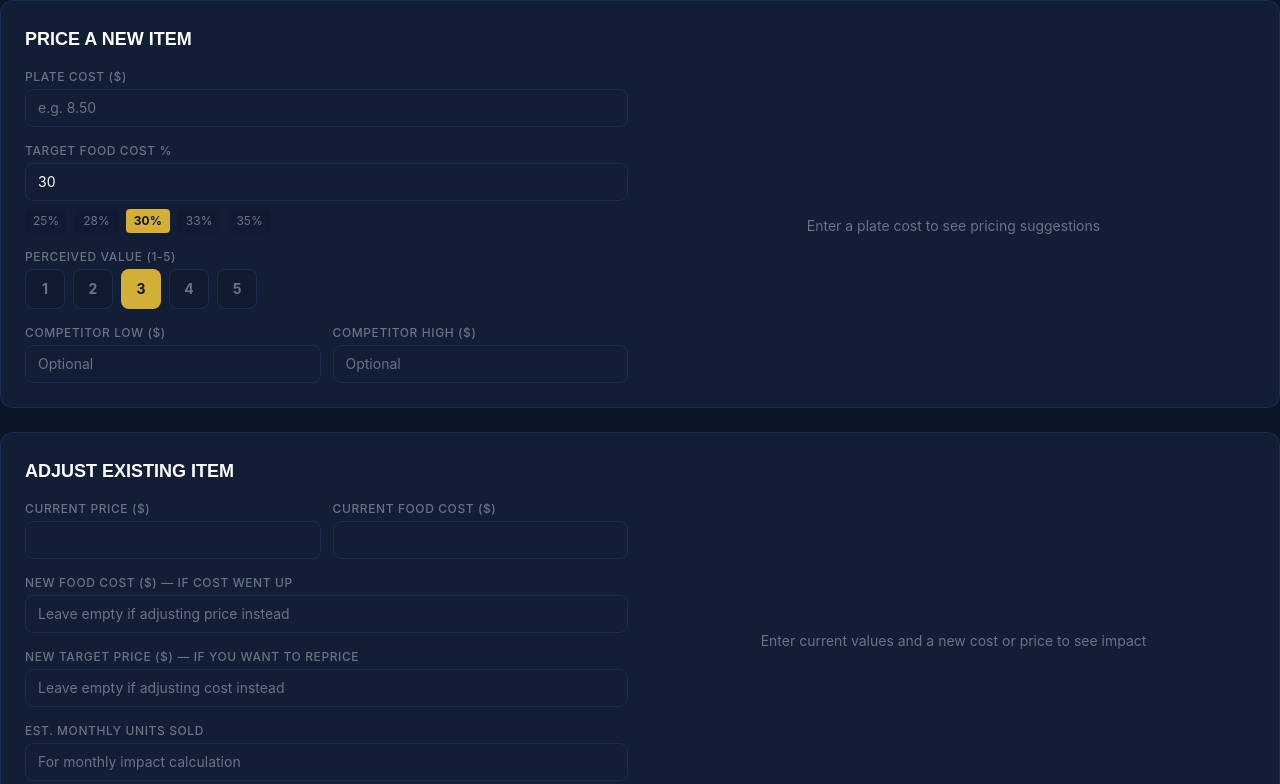
Test case: PricingCalculator › ForwardCalculator › calculates and displays suggested price when plate cost entered
The width and height of the screenshot is (1280, 784).
In the number field with placeholder "e.g. 8.50": (326, 108) [25,89,628,127], type "9"
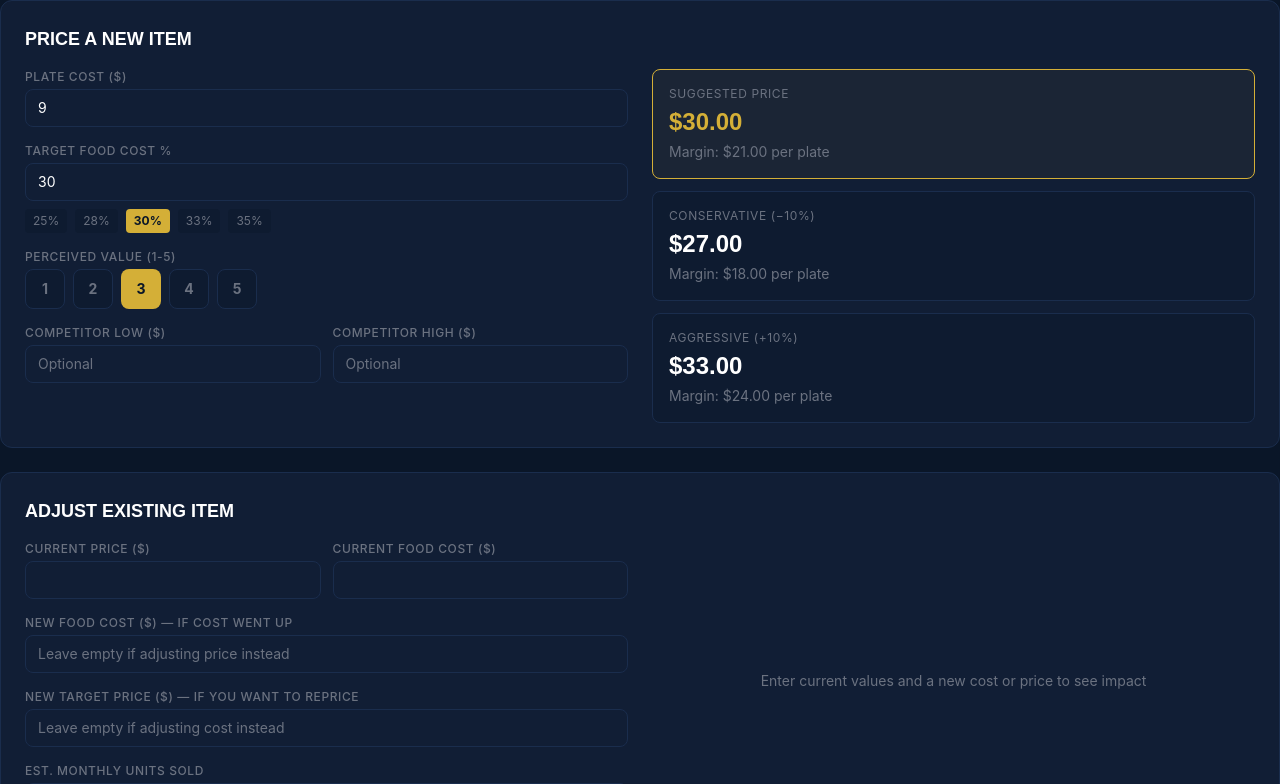
Now the text "$30.00" is shown, box [669,108,742,135]
Now the text "Suggested Price" is shown, box [669,86,789,101]
